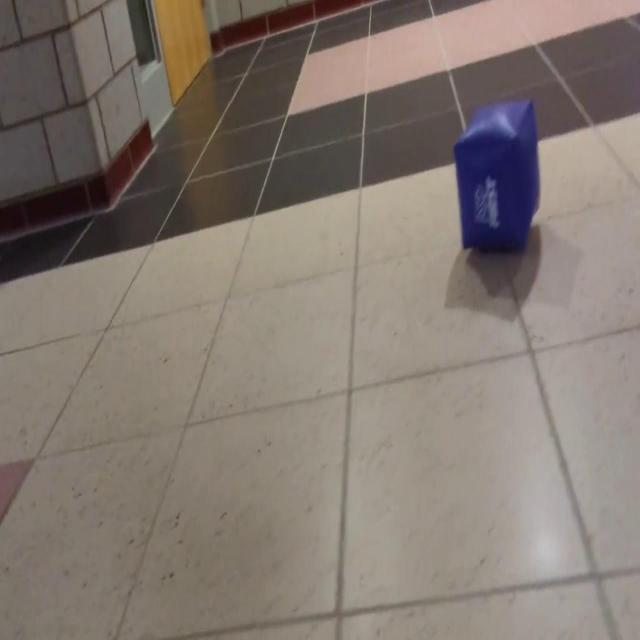frc_cube: (455, 99, 537, 257)
